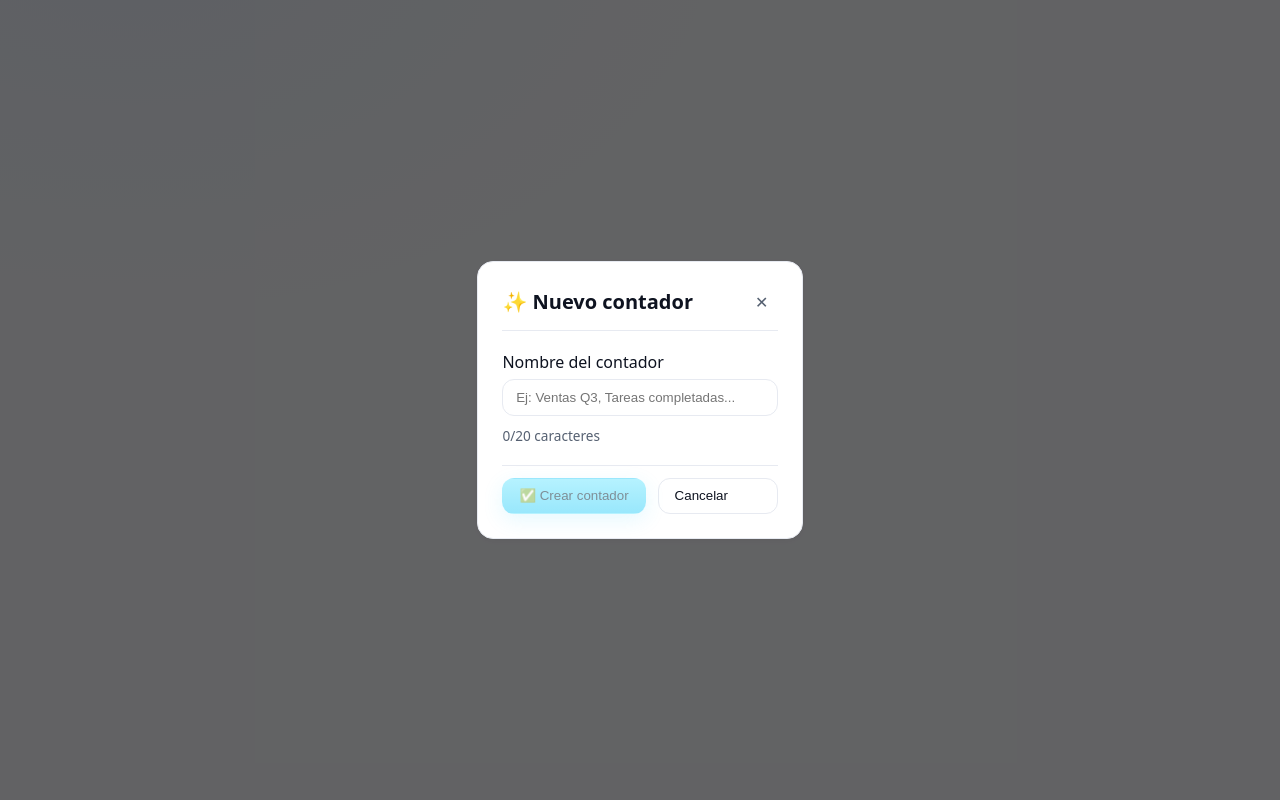
Test case: AddCounterModal Component › should enable confirm button with valid name
The width and height of the screenshot is (1280, 800).
Type "Valid Name" into the field with id "add-name".
click(640, 398); type("Valid Name")  # box [502,380,778,416]
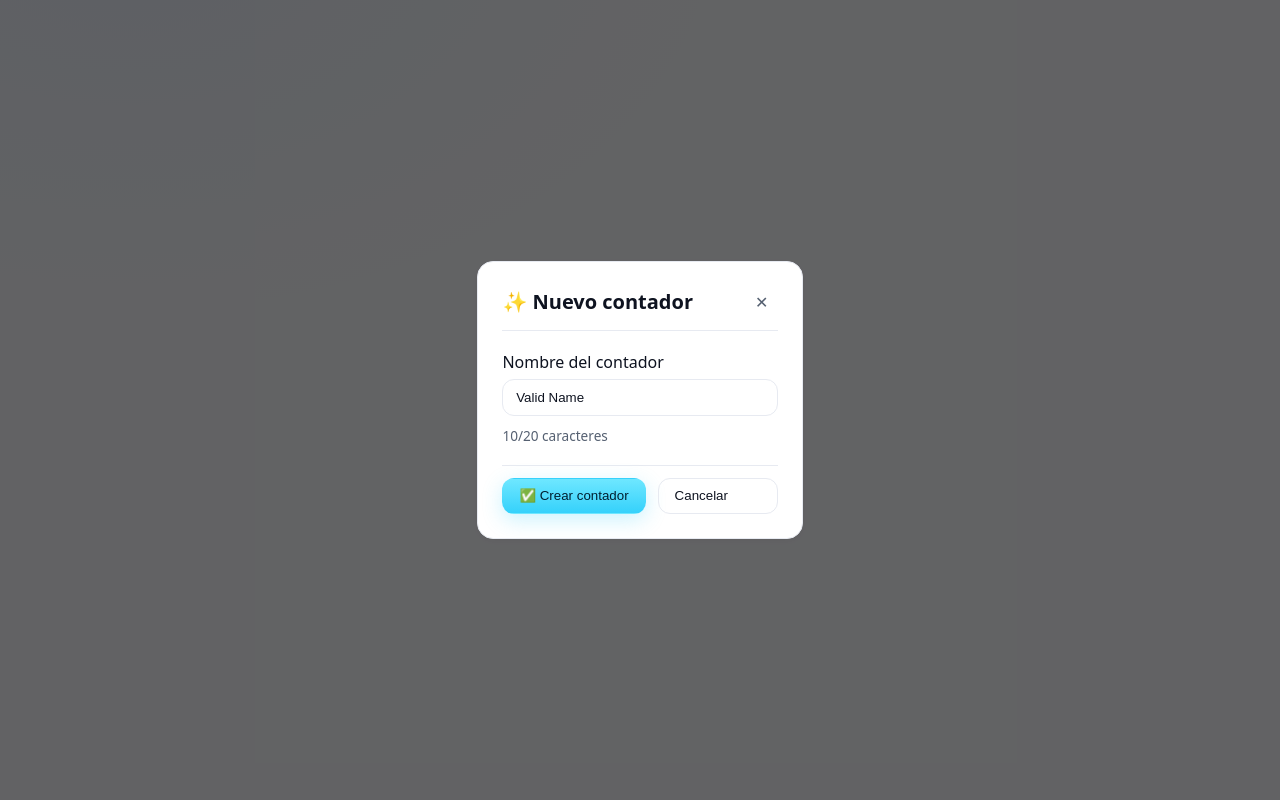
Now the button "✅ Crear contador" is enabled, box [502,478,646,514]
